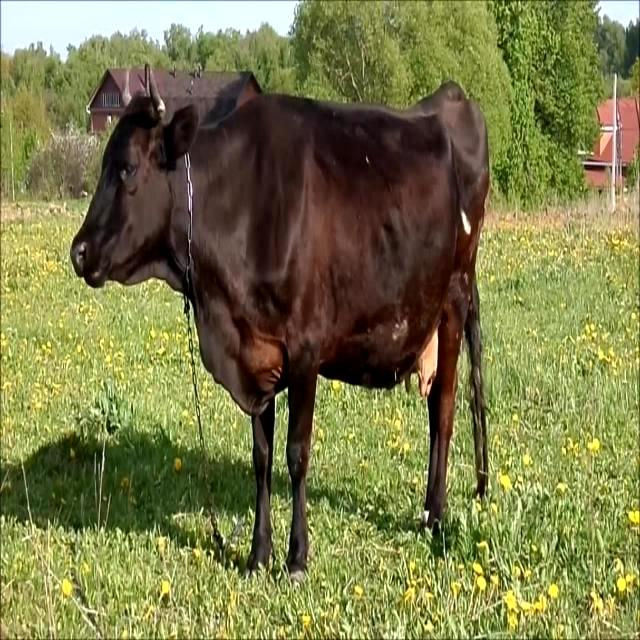COW: (72, 82, 489, 580)
